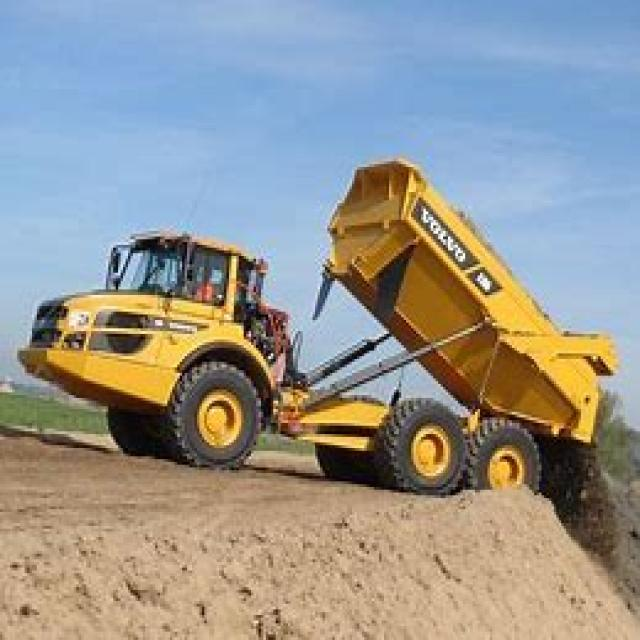dump_truck: (24, 150, 610, 504)
